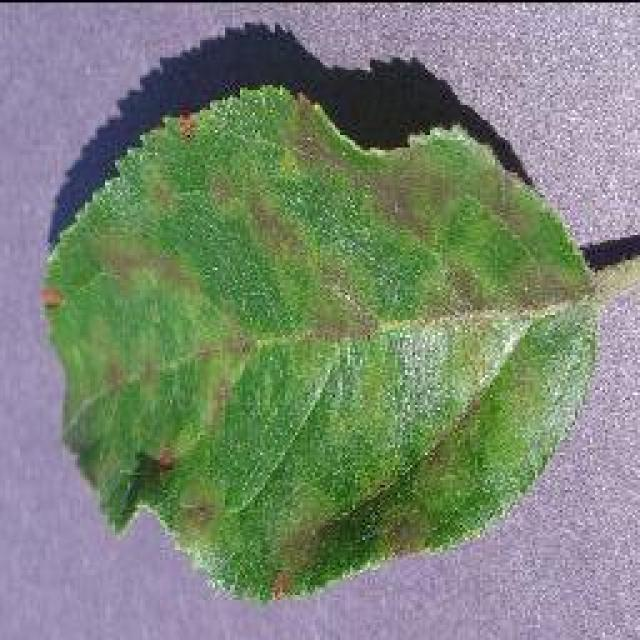Apple___Apple_scab: (35, 81, 604, 606)
